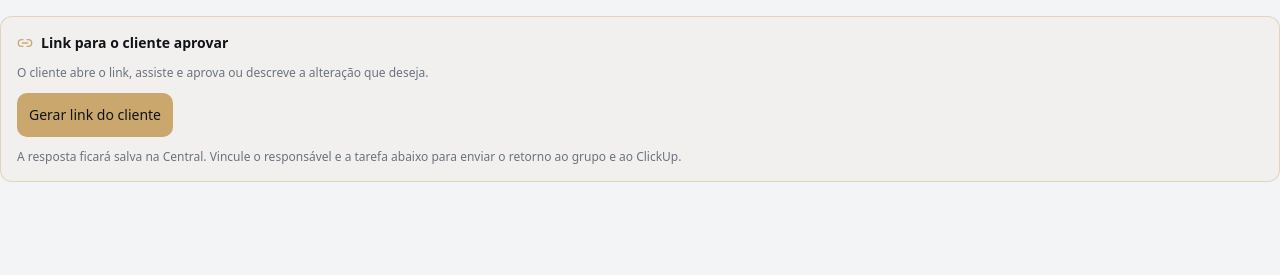
Test: client approval link copy › generates the link in place and copies only on the explicit copy button
Step 1. Click the button "Gerar link do cliente" → click(95, 115), box 17,93 -> 173,137
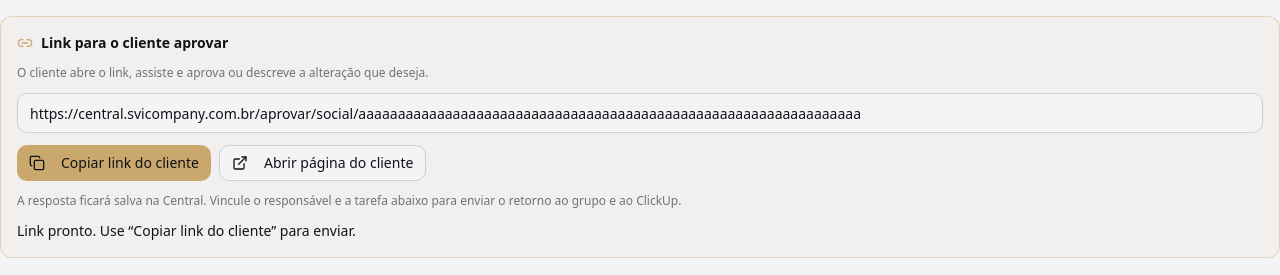
Now the button "Copiar link do cliente" is shown
Step 2. Click the button "Copiar link do cliente" → click(114, 163), box 17,145 -> 211,181
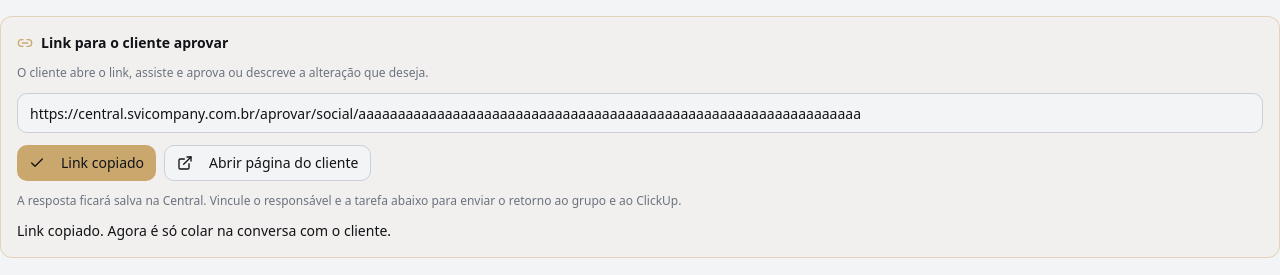
Now the text "Link copiado. Agora é só colar na conversa com o cliente." is shown, box 17,221 -> 391,240
